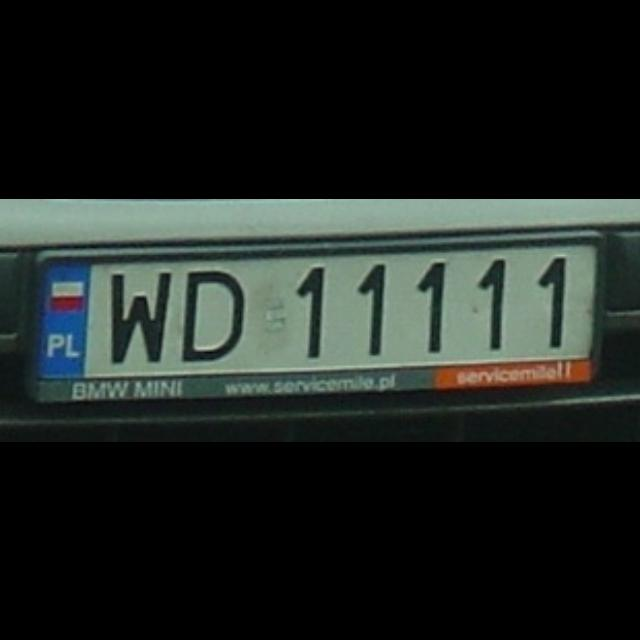pl_license_plate: (38, 241, 592, 375)
